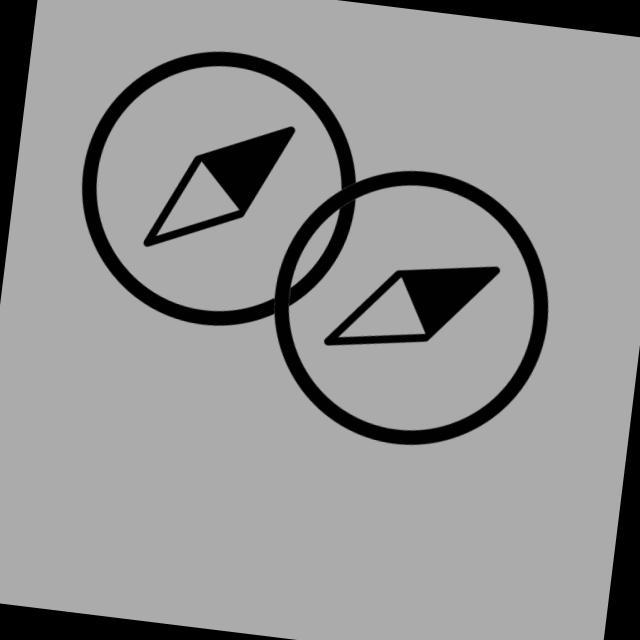compass: (248, 148, 569, 471), (60, 30, 379, 353)
